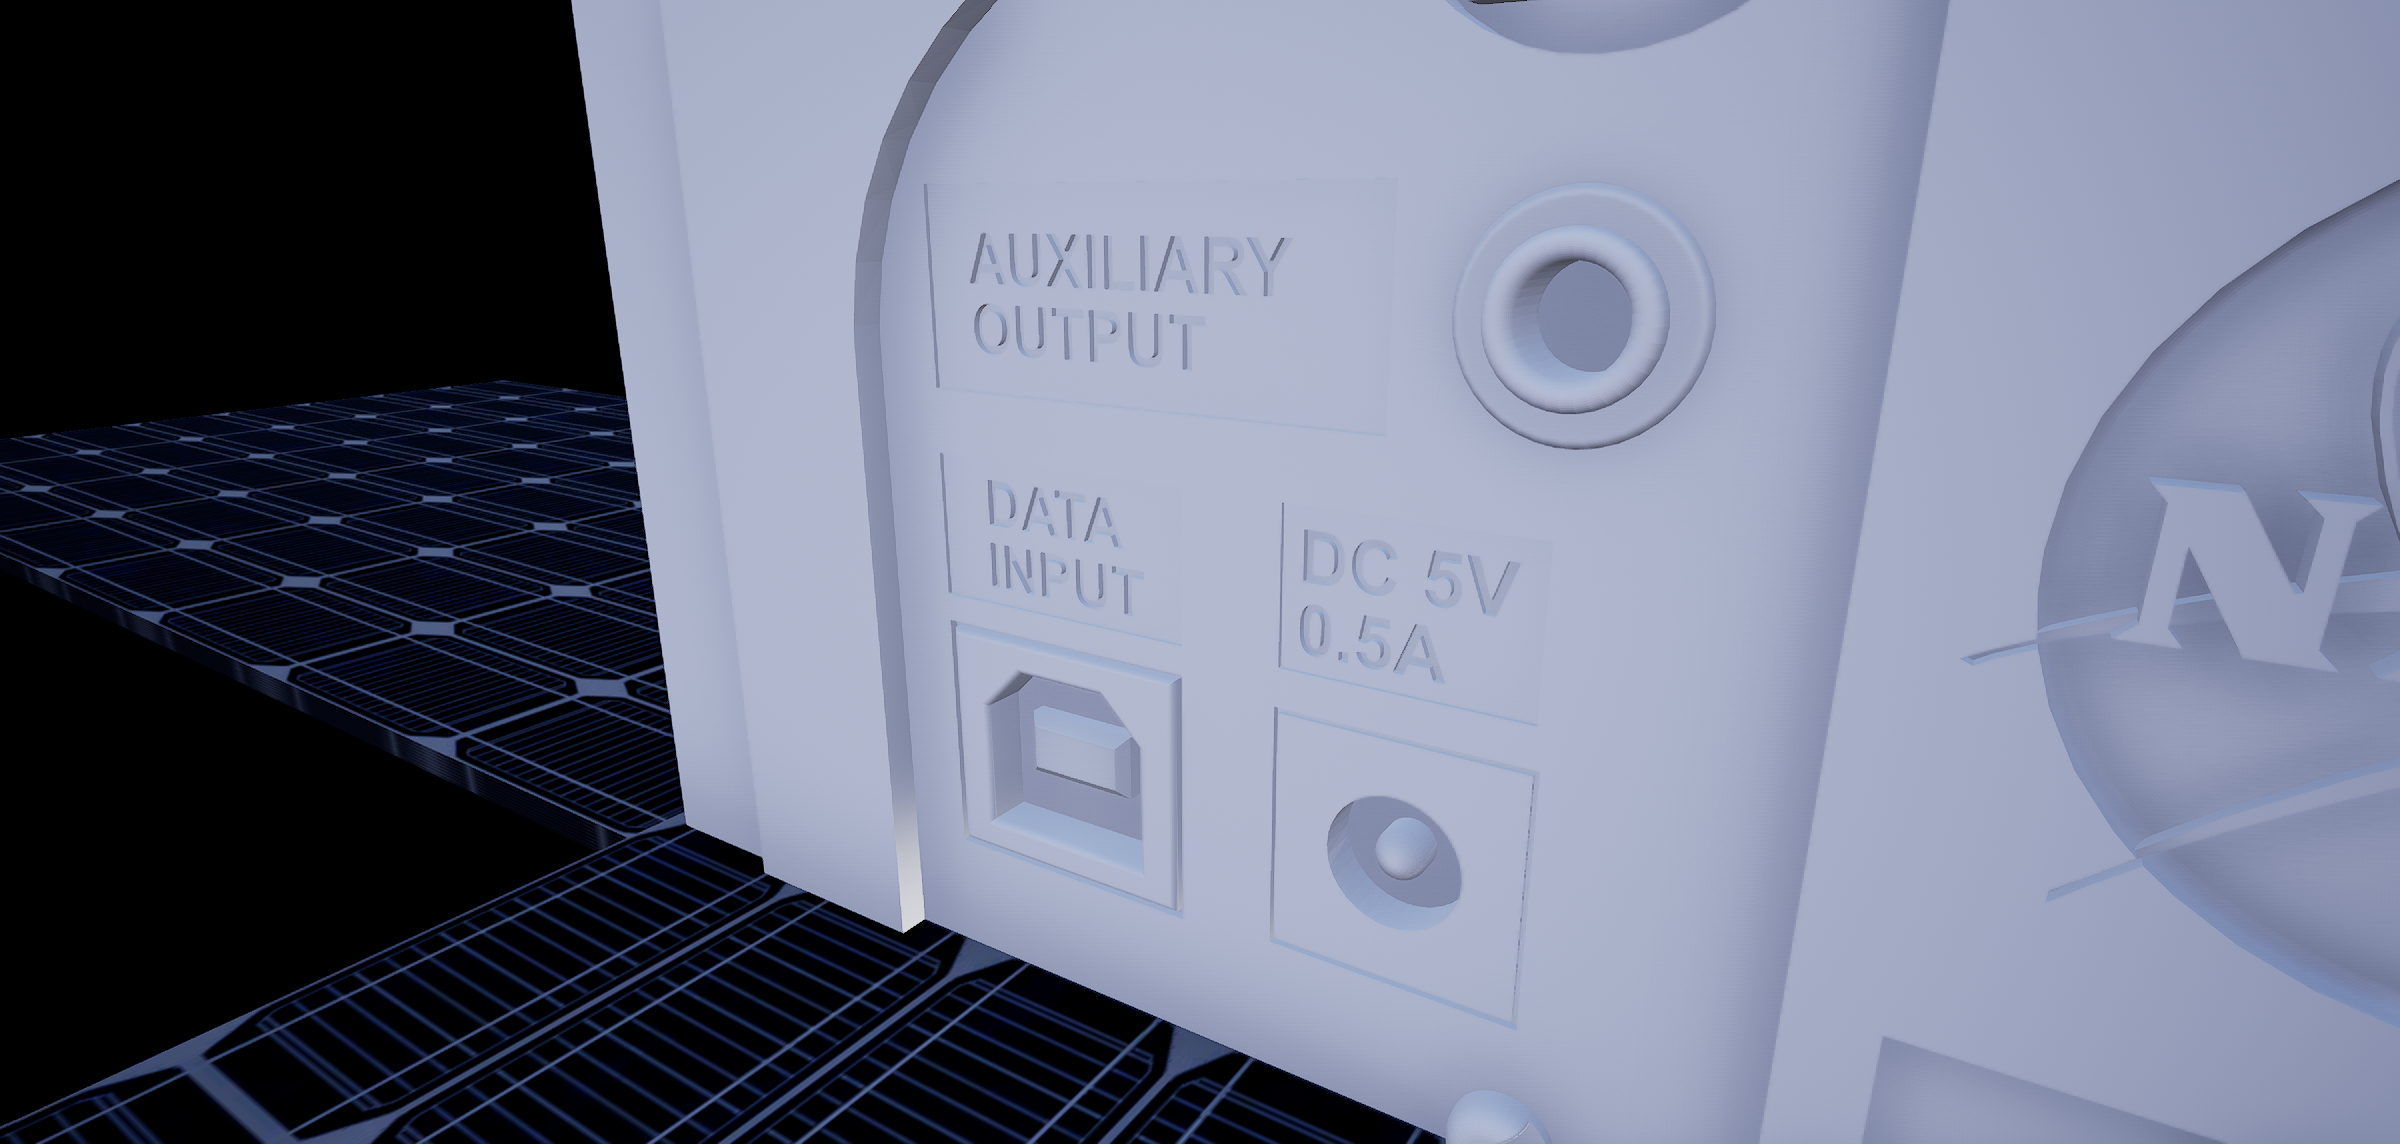aux: (1443, 149, 1748, 479)
dc: (1313, 787, 1477, 939)
usb: (973, 659, 1153, 885)
